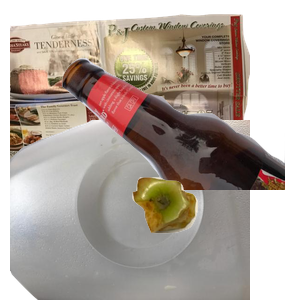glass: (60, 56, 300, 236)
paper: (10, 11, 250, 180)
plastic: (10, 120, 250, 300)
trash: (130, 175, 300, 300)
